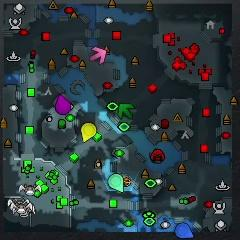p1: (175, 222, 195, 238)
p2: (109, 173, 124, 192)
p3: (55, 94, 71, 115)
p4: (82, 122, 95, 143)
x1: (91, 46, 107, 63)
x4: (118, 103, 133, 118)
